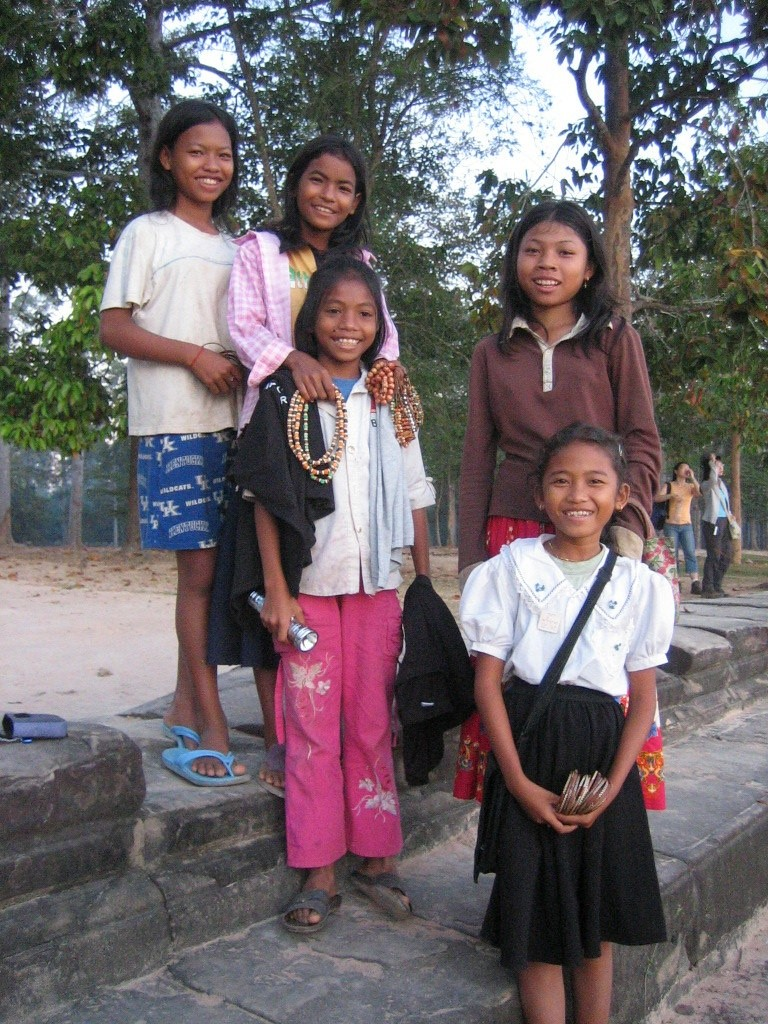face_no_mask: (530, 425, 630, 543), (510, 200, 601, 307), (152, 102, 236, 207), (305, 256, 382, 365), (287, 140, 367, 234)
